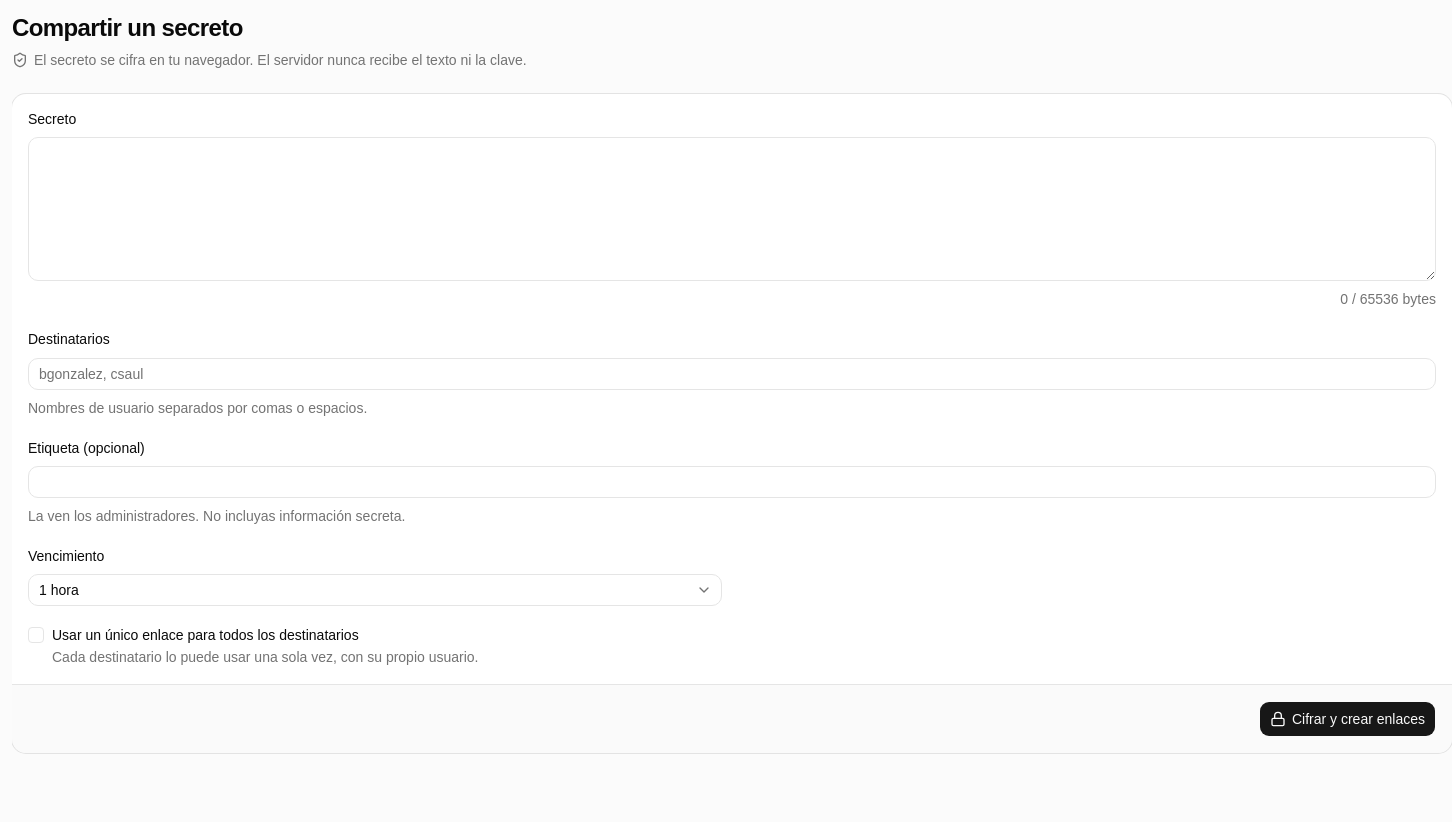
Test: CreatePage › shows backend validation errors in Spanish
The width and height of the screenshot is (1452, 822).
Type "hunter2" into the text box labelled "Secreto" at (732, 209), box [28,137,1436,281]
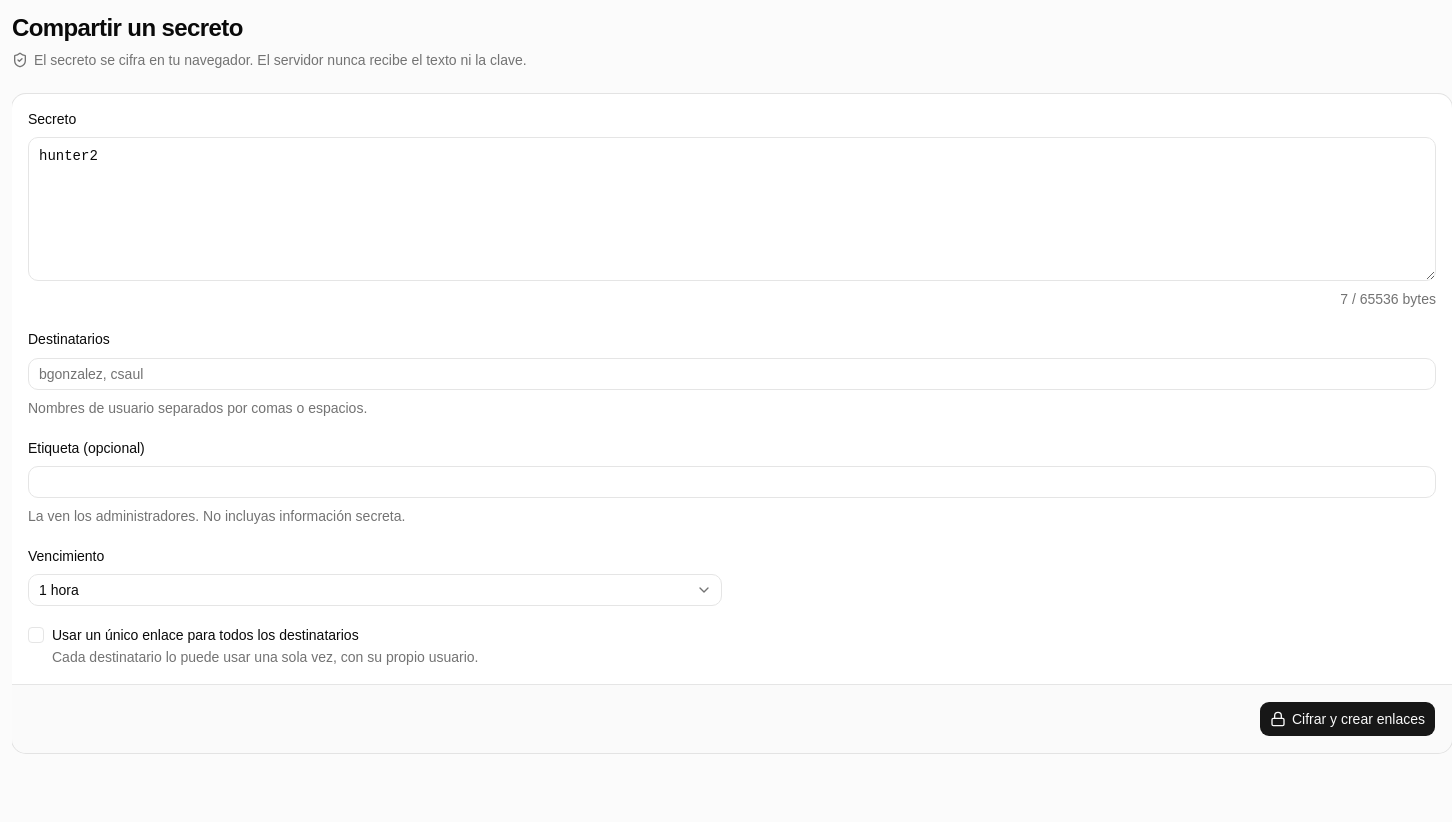
Type " BGonzalez, csaul " into the field labelled "Destinatarios" at (732, 374), box [28,358,1436,390]
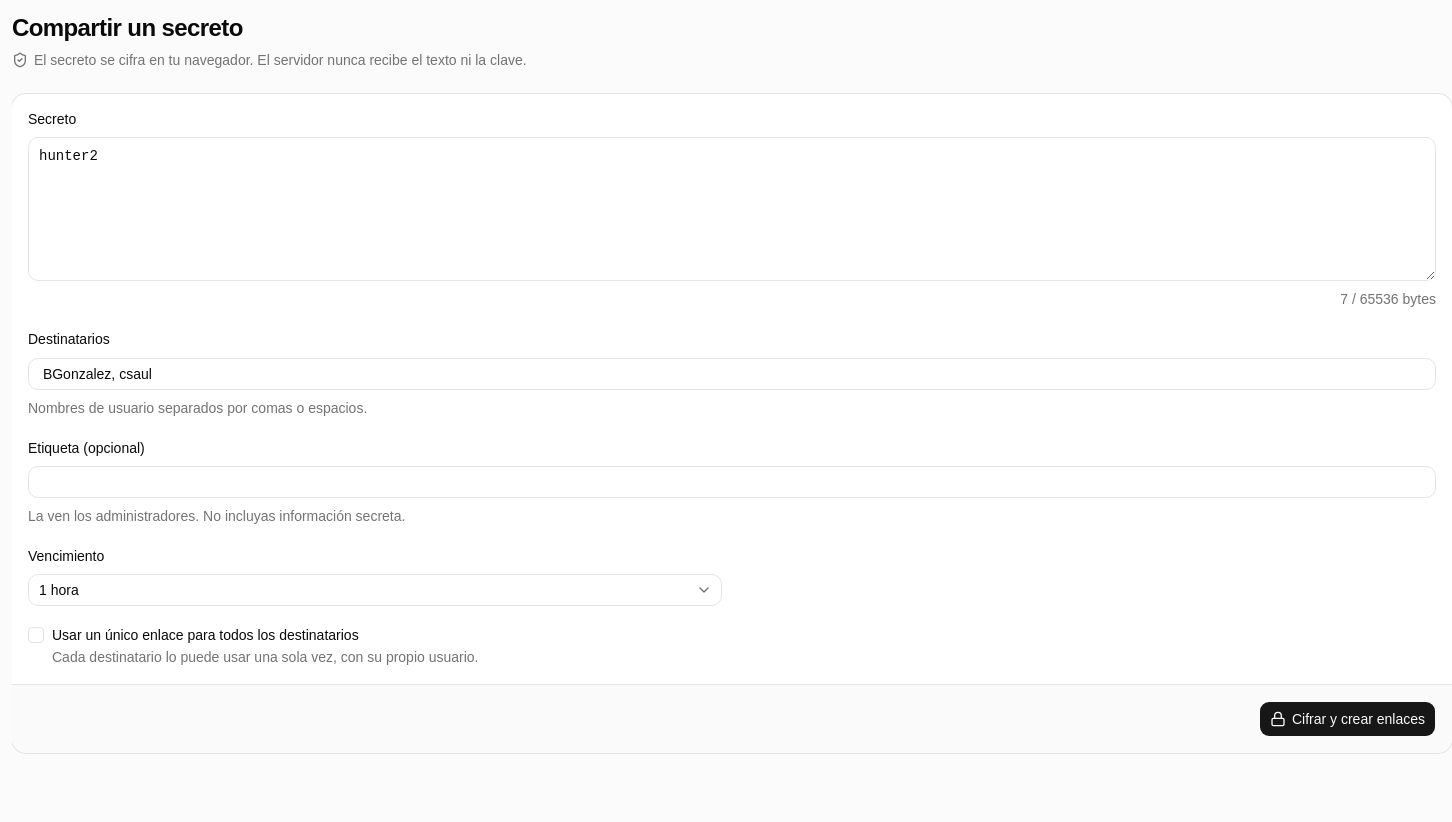
Click the button "Cifrar y crear enlaces" at (1348, 719), box [1259,701,1436,737]
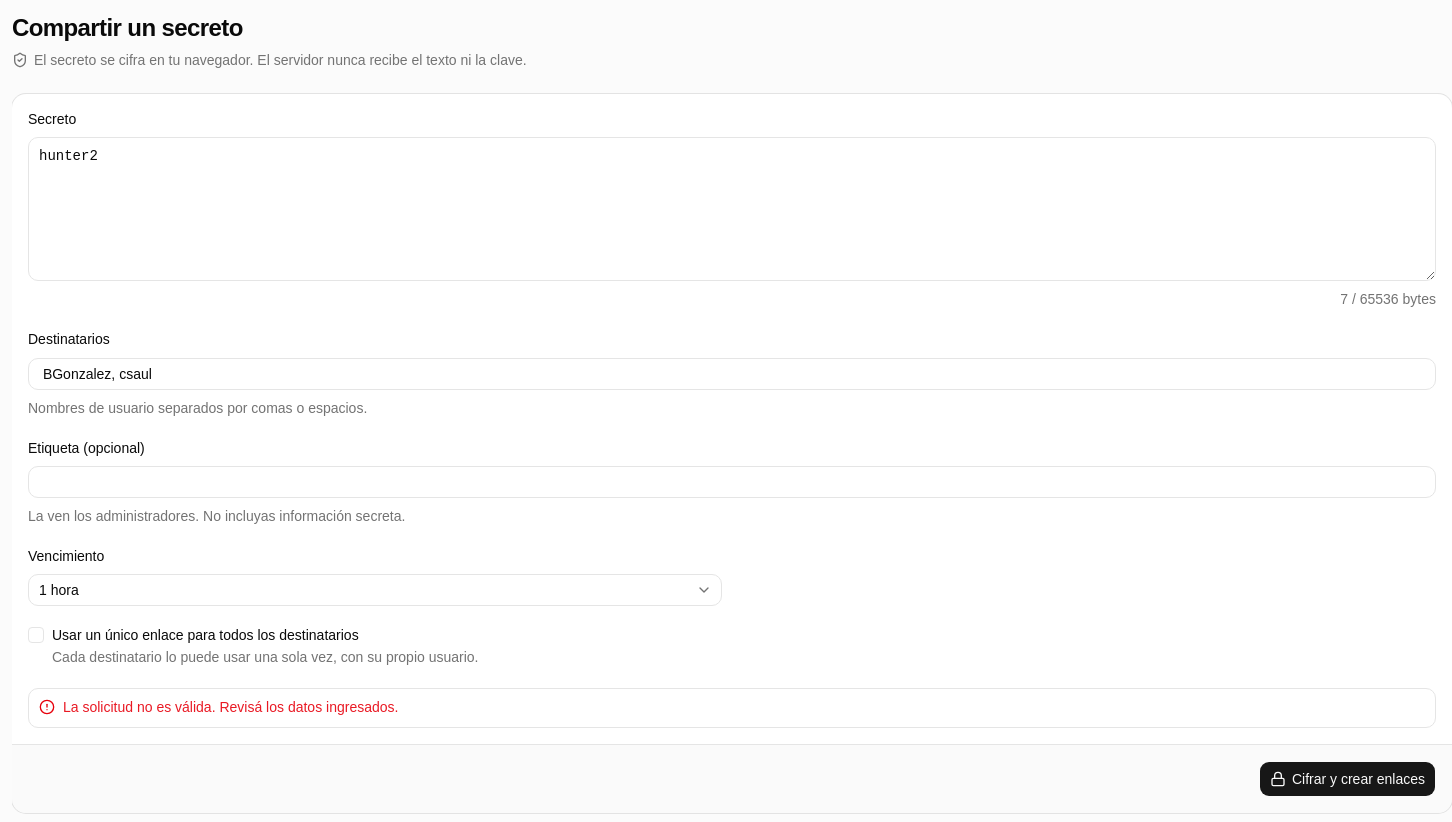
Now the message reads "La solicitud no es válida. Revisá los datos ingresados.", box [63,699,398,715]
